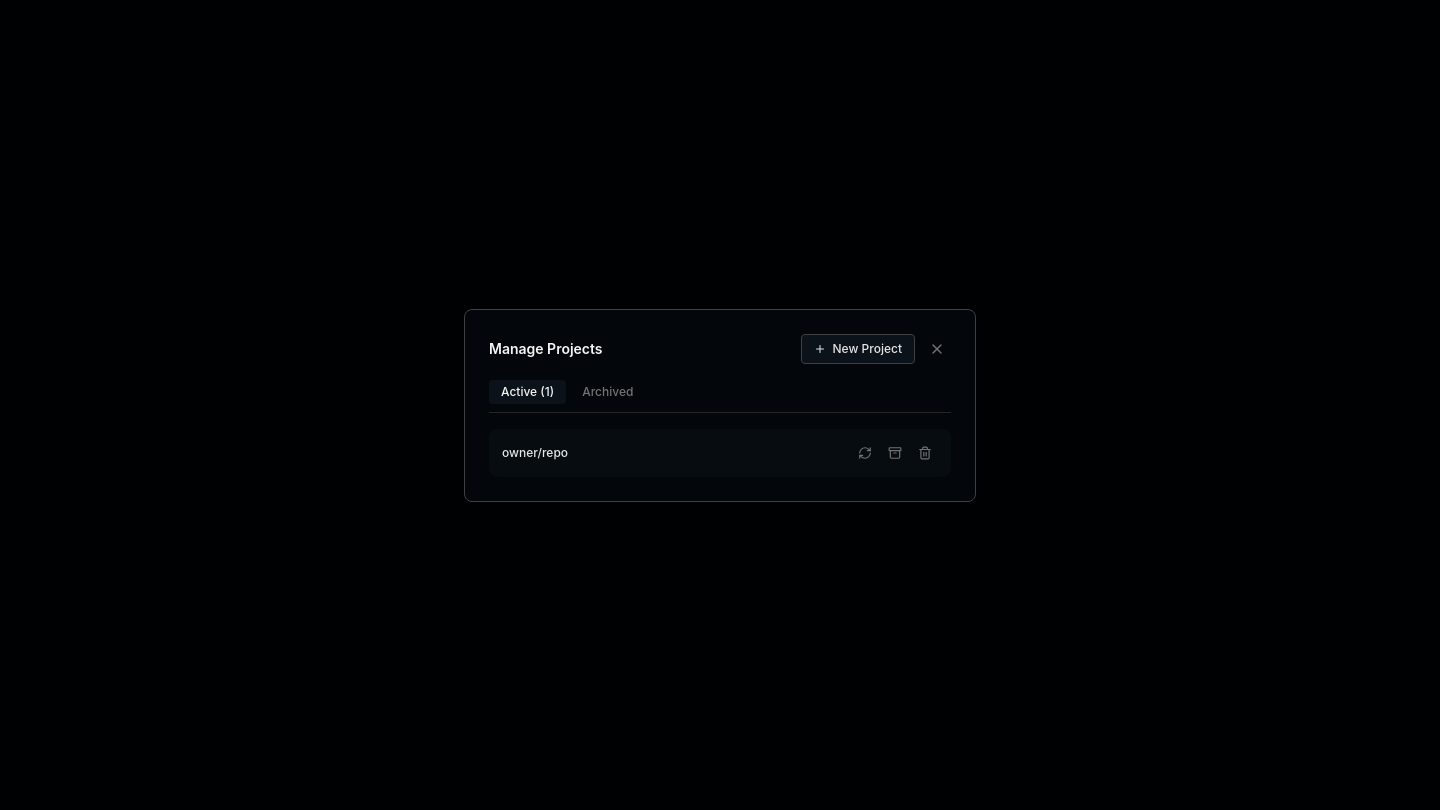
Scenario: ProjectManagementModal › shows error message when archiveProject fails
Click the button with test id "archive-btn-proj-1": (895, 452) [882,440,908,466]
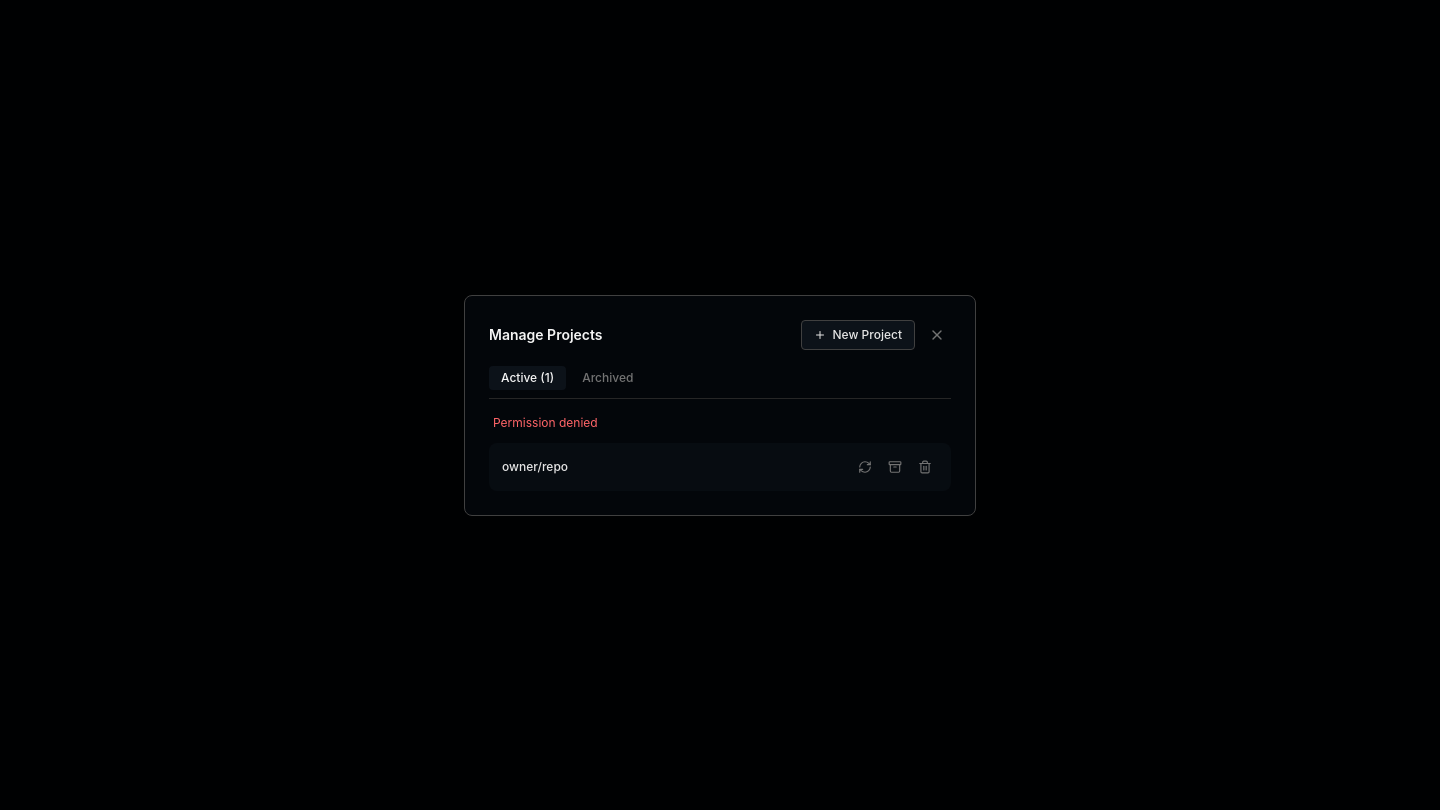
Check: the text with test id "action-error" reads "Permission denied", box [493,414,598,430]
